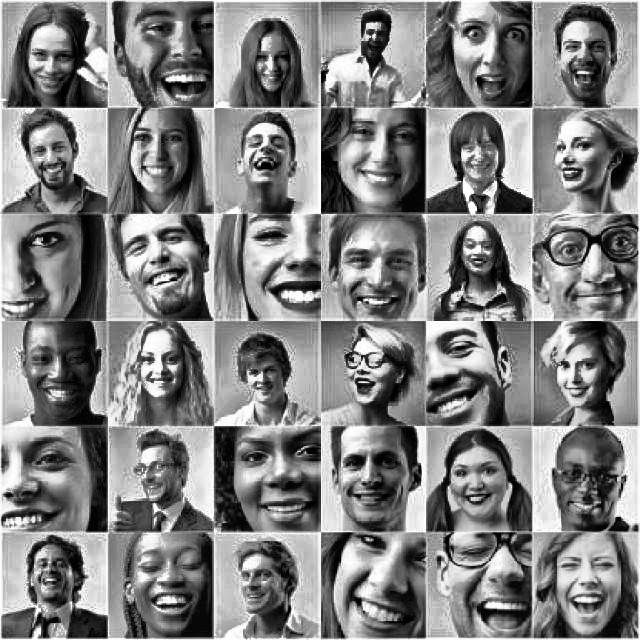happy: (234, 426, 318, 530), (550, 212, 638, 308), (459, 529, 535, 640), (347, 533, 425, 639), (133, 3, 211, 105), (247, 212, 316, 316), (2, 433, 73, 529), (8, 215, 71, 319), (133, 544, 209, 616), (341, 239, 410, 313), (120, 224, 192, 293), (431, 323, 482, 419), (350, 114, 416, 185), (558, 547, 618, 621), (28, 339, 90, 401), (338, 446, 398, 506), (563, 455, 617, 517), (132, 123, 183, 180), (450, 454, 501, 510), (563, 31, 607, 87), (138, 343, 186, 391), (556, 352, 600, 403), (556, 131, 593, 187), (247, 130, 289, 173), (32, 41, 70, 85), (30, 139, 72, 177), (350, 349, 382, 397), (240, 566, 276, 606), (36, 552, 68, 594), (136, 458, 167, 500), (462, 138, 496, 174), (257, 47, 289, 84), (245, 362, 277, 399), (463, 235, 491, 269), (366, 26, 384, 54)
